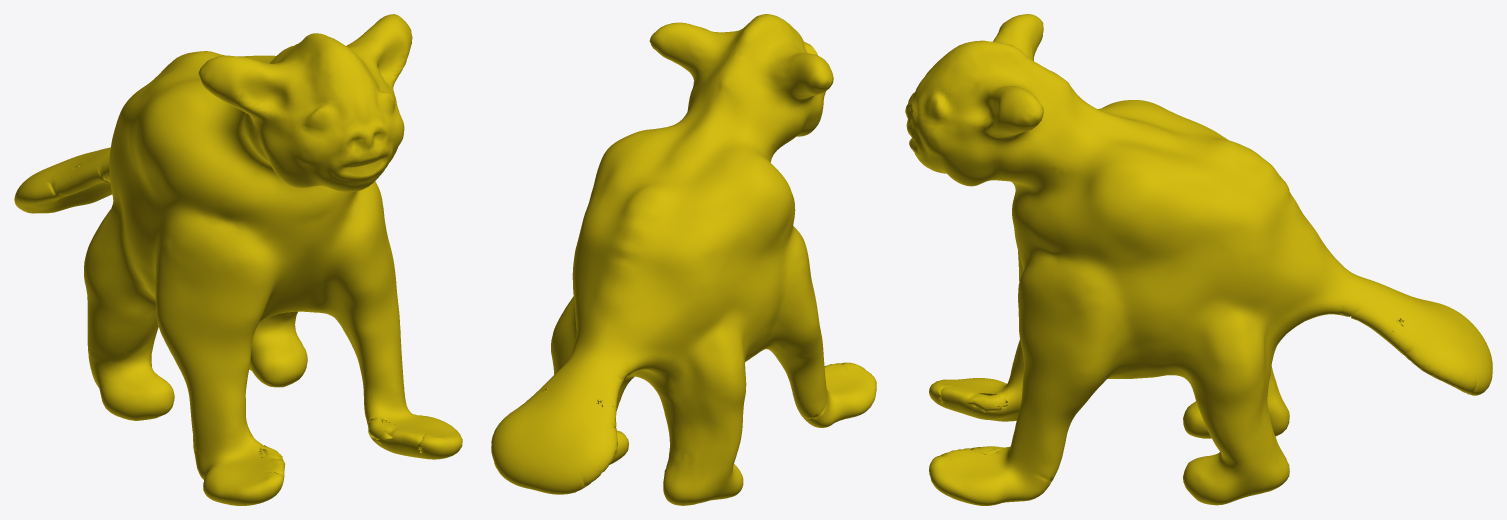
Rendered from turntablemonster2.fbx.
3 renders of one model, left to right at view 1: azimuth 30°, elevation 25°; view 2: azimuth 150°, elevation 25°; view 3: azimuth 270°, elevation 25°, orthographic. The views are drawn at different scales.
Parts seen in each view (by area): view 1: low; view 2: low; view 3: low.
Part boxes in pixels (x1,y1,x2,y2): low: (14,14,462,505); low: (491,14,876,505); low: (905,14,1492,505).
Bounding box in the file's own units: 104 × 180 × 226.
